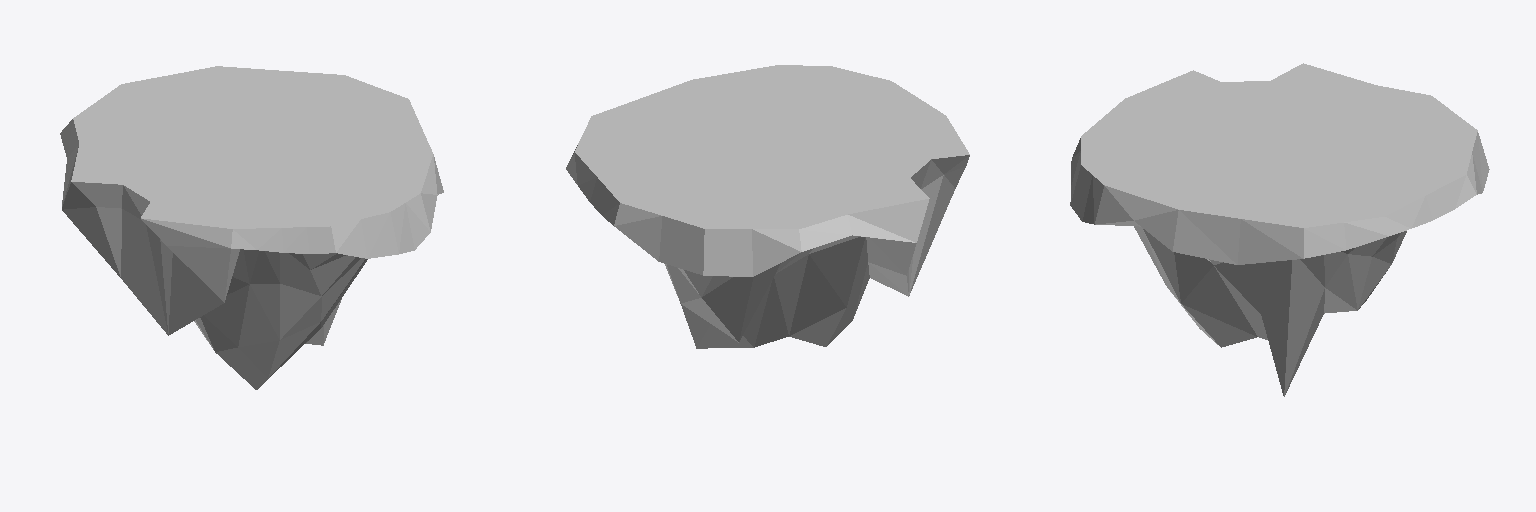
The model's file is SkyIsland2.obj.
3 renders of one model, left to right at view 1: azimuth 30°, elevation 25°; view 2: azimuth 150°, elevation 25°; view 3: azimuth 270°, elevation 25°, orthographic.
Visible parts, largest first — view 1: 浮島2.001_Set_of_Floating_Islands.004; view 2: 浮島2.001_Set_of_Floating_Islands.004; view 3: 浮島2.001_Set_of_Floating_Islands.004.
Part boxes in pixels (bbox=[...]): 浮島2.001_Set_of_Floating_Islands.004: bbox=[60, 66, 443, 389]; 浮島2.001_Set_of_Floating_Islands.004: bbox=[566, 65, 969, 348]; 浮島2.001_Set_of_Floating_Islands.004: bbox=[1070, 63, 1489, 396].
Size of the model in its own units: 3.09 by 1.84 by 3.24.